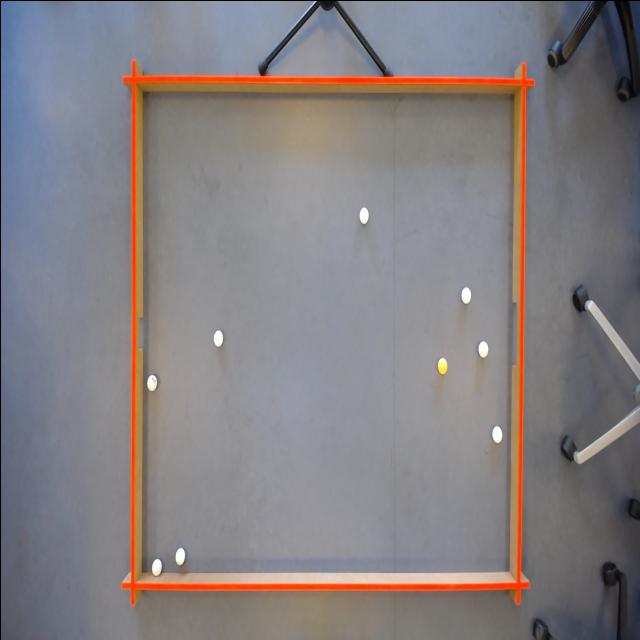orange_ball: (436, 354, 448, 374)
white_ball: (459, 282, 472, 305), (150, 554, 162, 578), (173, 544, 186, 566), (211, 326, 223, 348), (490, 422, 502, 444), (476, 338, 488, 359), (356, 205, 368, 225), (146, 373, 156, 393)
